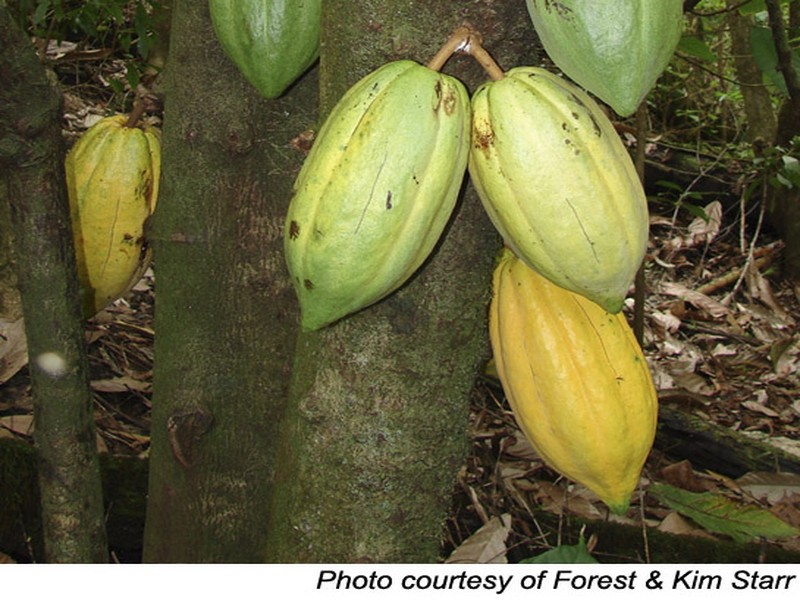Cacaopod: (281, 63, 467, 338), (470, 65, 654, 317)
